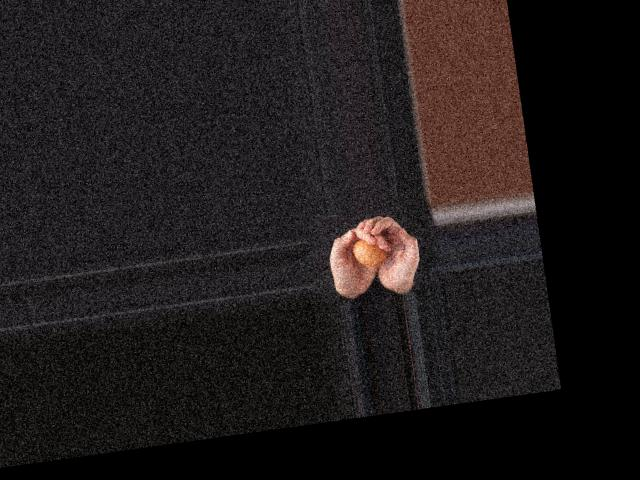egg: (352, 236, 389, 269)
